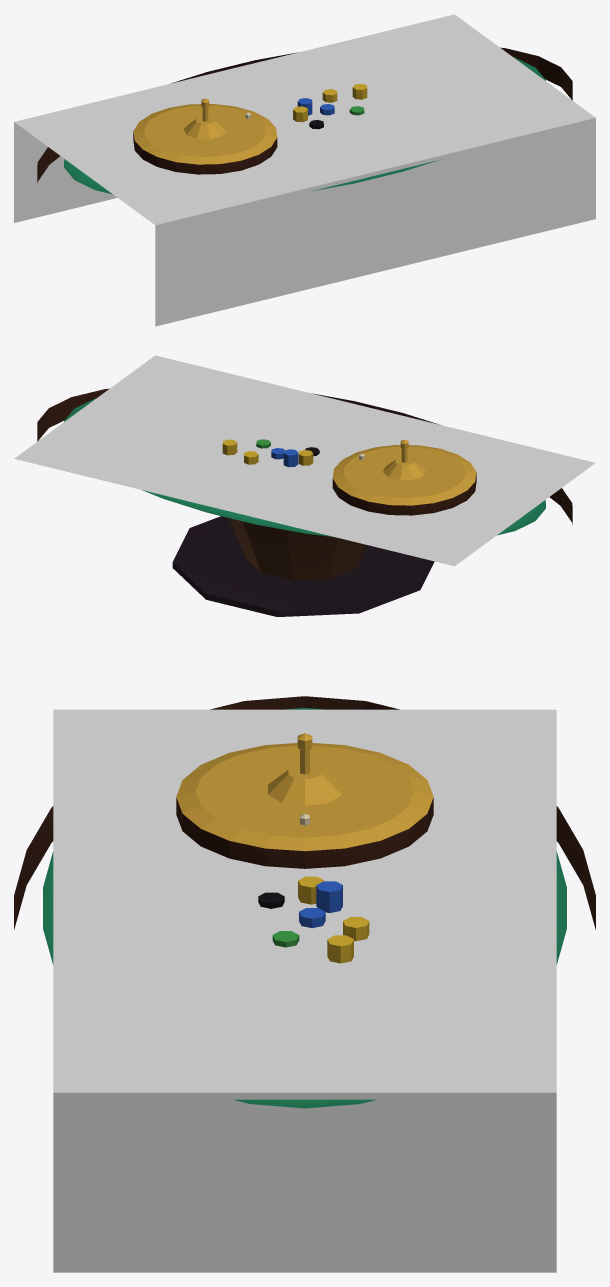
Rendered from roulette_table.glb.
The picture shows the model from 3 angles, top to bottom: view 1: azimuth 30°, elevation 25°; view 2: azimuth 150°, elevation 25°; view 3: azimuth 270°, elevation 25°; orthographic projection. The views are drawn at different scales.
Parts seen in each view (by area): view 1: COL_0, roulette_table, DYN_rotor; view 2: COL_0, roulette_table, DYN_rotor; view 3: COL_0, roulette_table, DYN_rotor.
Boxes of the visible parts, <box> form: COL_0: <box>14,14,595,326</box>; roulette_table: <box>37,47,572,194</box>; DYN_rotor: <box>183,98,226,139</box>; COL_0: <box>14,355,595,566</box>; roulette_table: <box>37,388,572,616</box>; DYN_rotor: <box>383,439,426,480</box>; COL_0: <box>53,709,556,1272</box>; roulette_table: <box>14,696,595,1108</box>; DYN_rotor: <box>268,733,341,806</box>.
Bounding box in the file's own units: 5.4 × 1.48 × 2.98.
